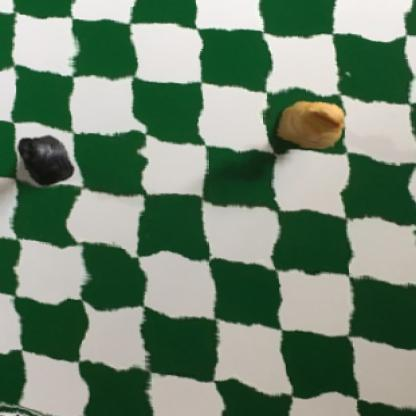black-king: (17, 127, 78, 186)
white-king: (276, 94, 347, 156)
